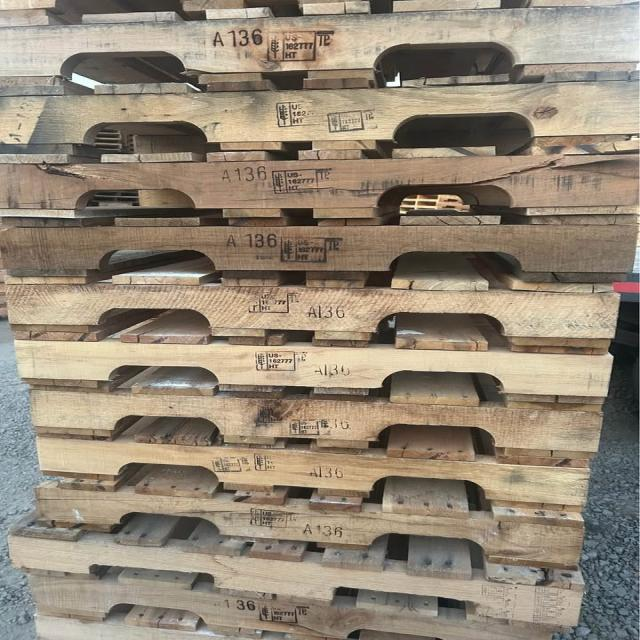non-igps: (0, 498, 595, 634), (26, 413, 603, 534), (28, 460, 594, 578), (0, 66, 640, 170), (0, 0, 640, 103), (18, 368, 612, 478), (0, 206, 640, 302), (6, 319, 619, 417), (0, 272, 627, 367), (0, 141, 640, 231), (17, 549, 568, 640), (20, 595, 356, 640)
